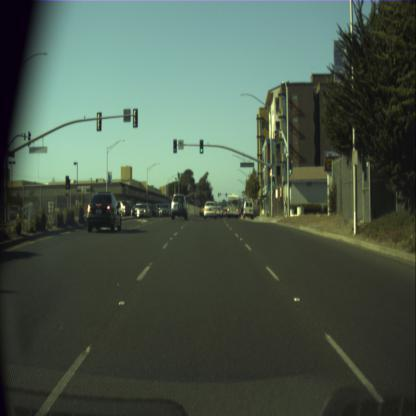Green: (199, 139, 203, 153), (288, 162, 292, 173), (272, 174, 274, 184)
GreenLeft: (66, 176, 68, 188), (174, 141, 176, 151)
